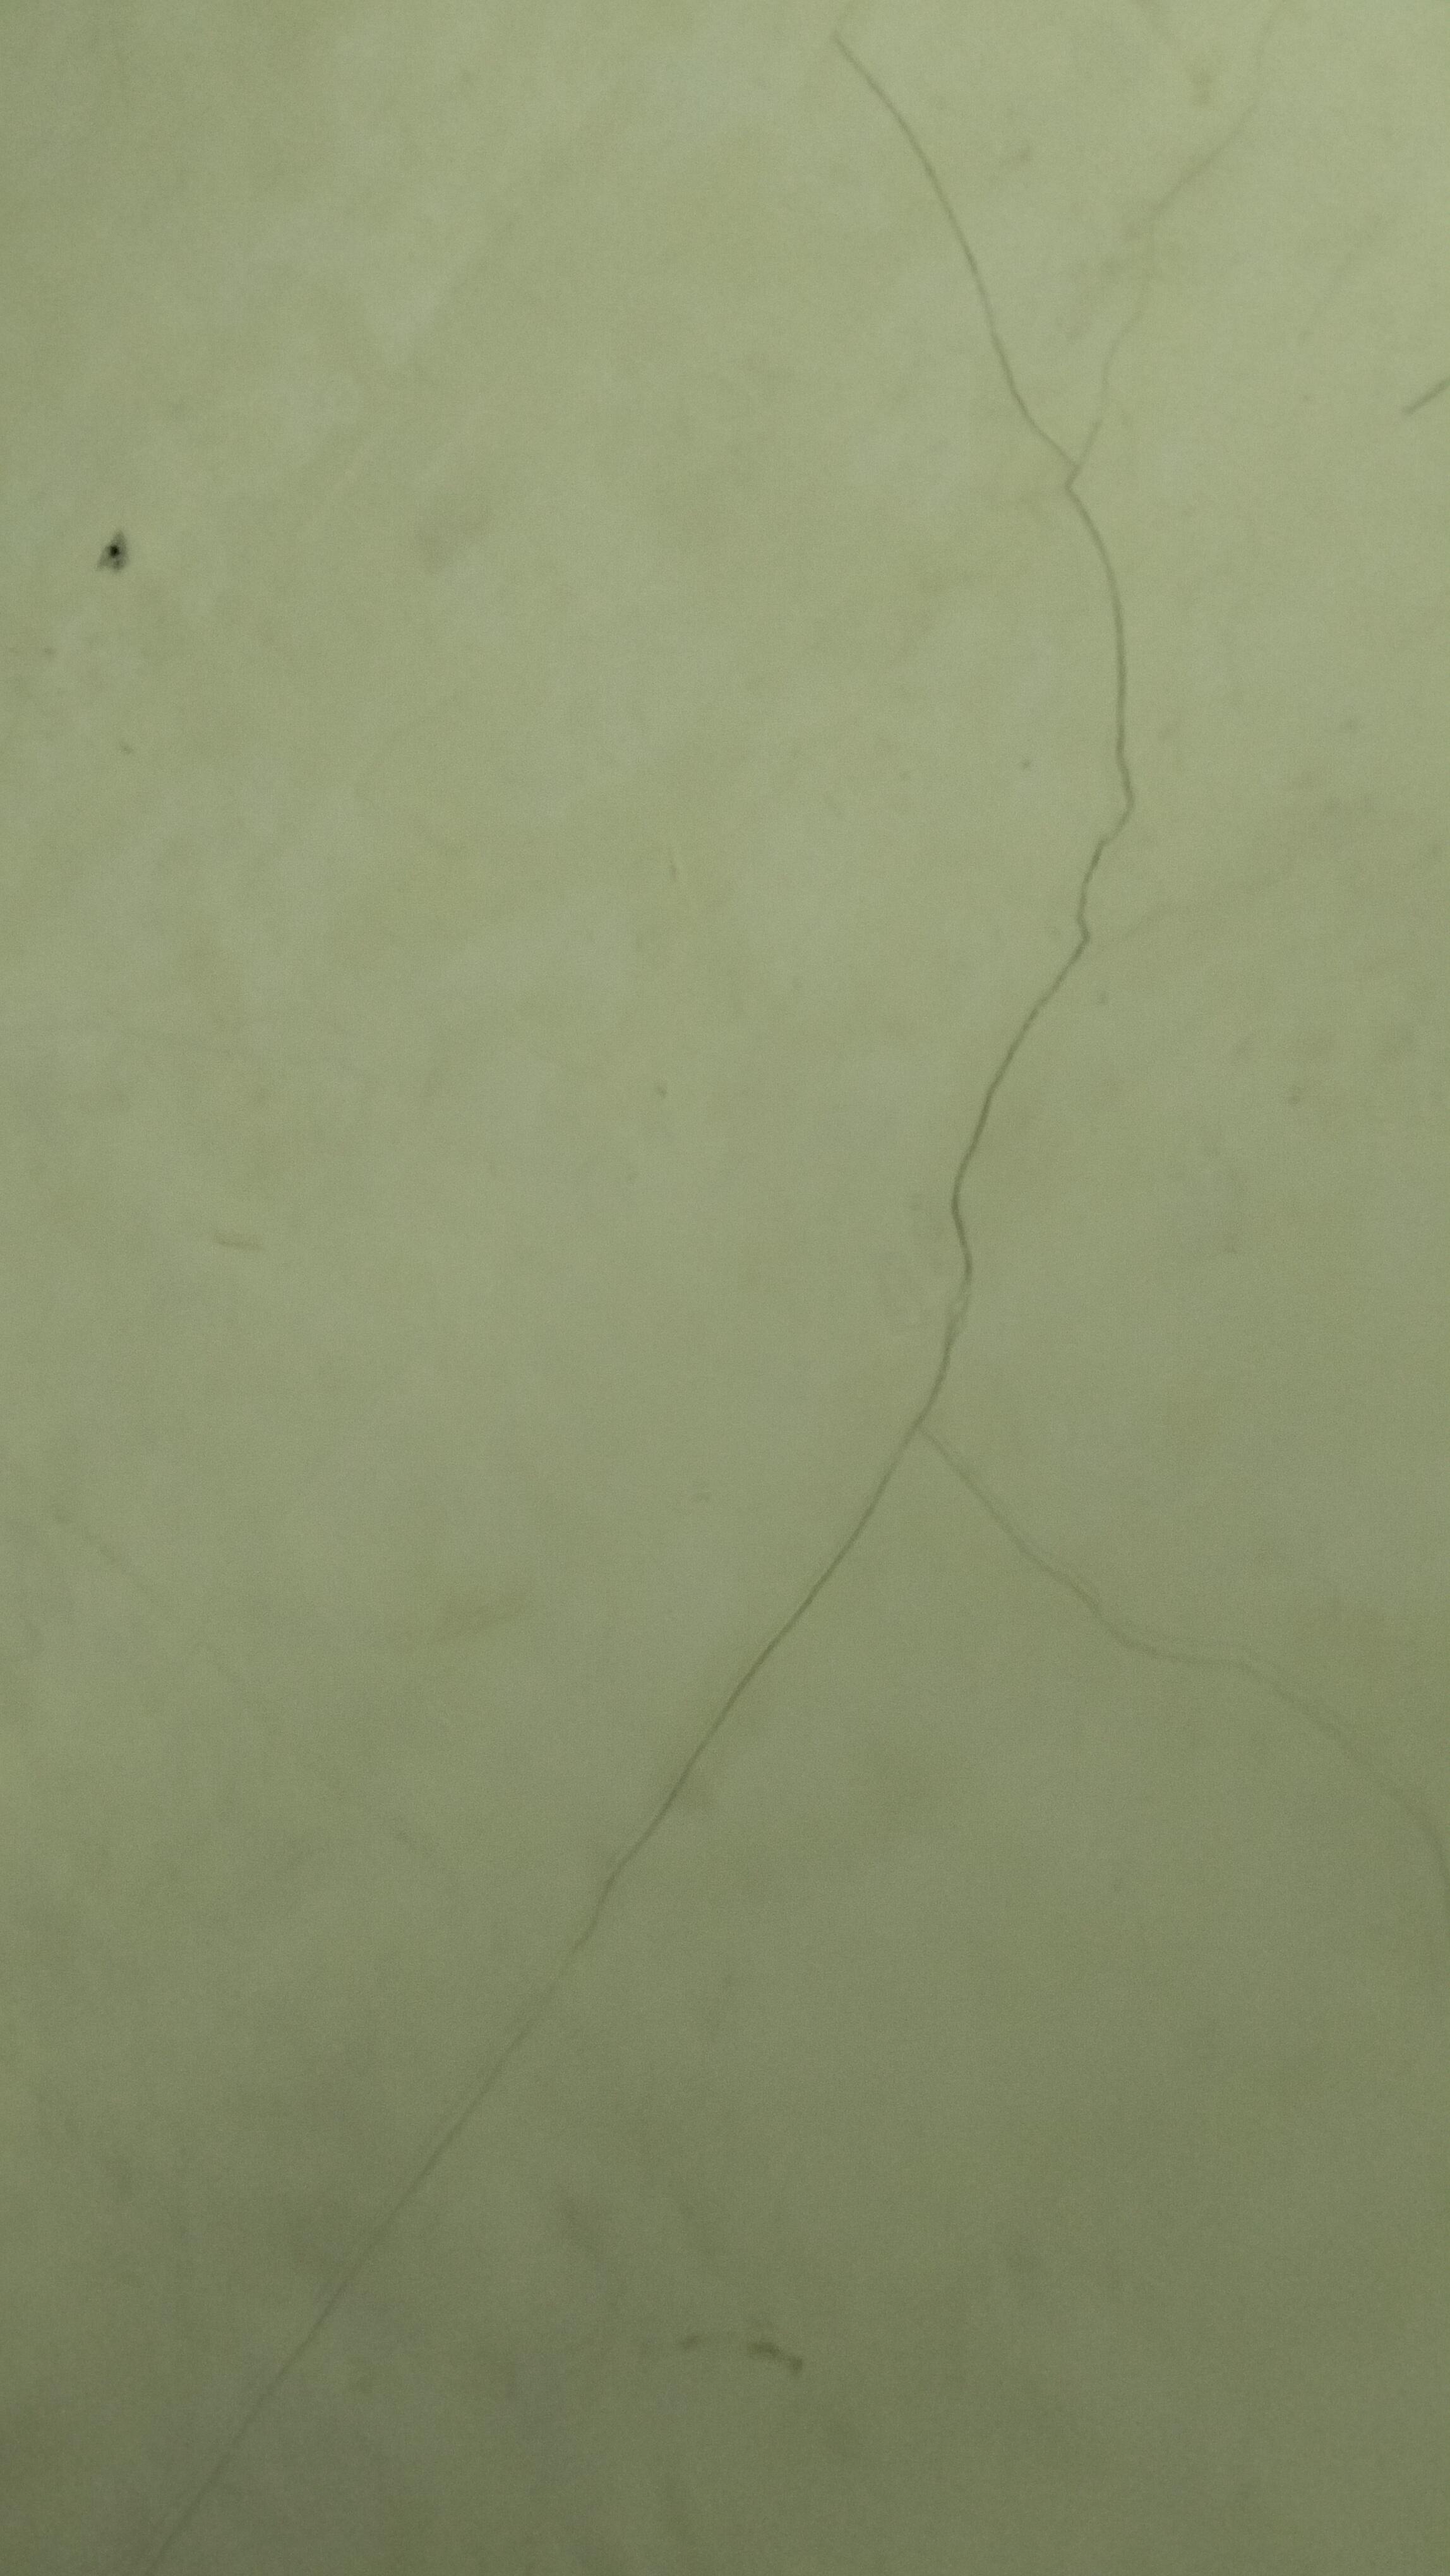Crack: (490, 1458, 922, 2089), (892, 465, 1158, 1433), (818, 25, 1275, 508), (883, 1421, 1416, 1822), (133, 2072, 519, 2576)
